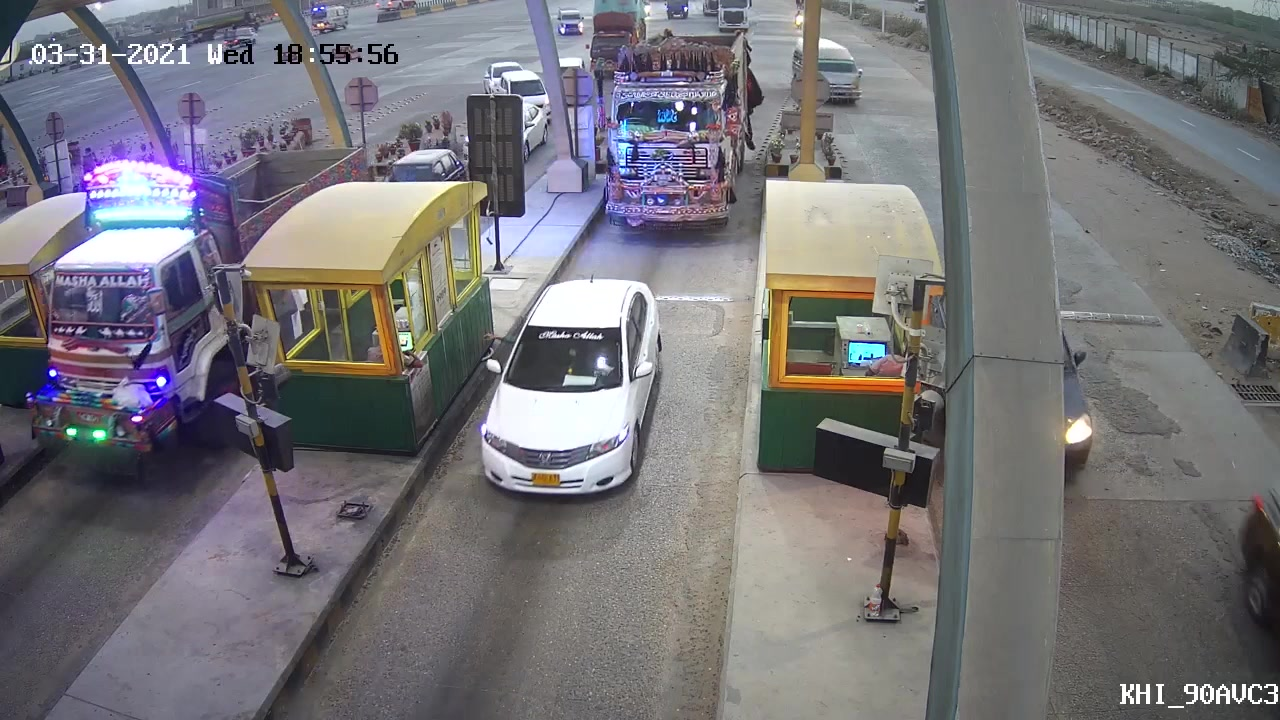F1: (472, 271, 665, 495)
F5: (594, 42, 743, 232)
